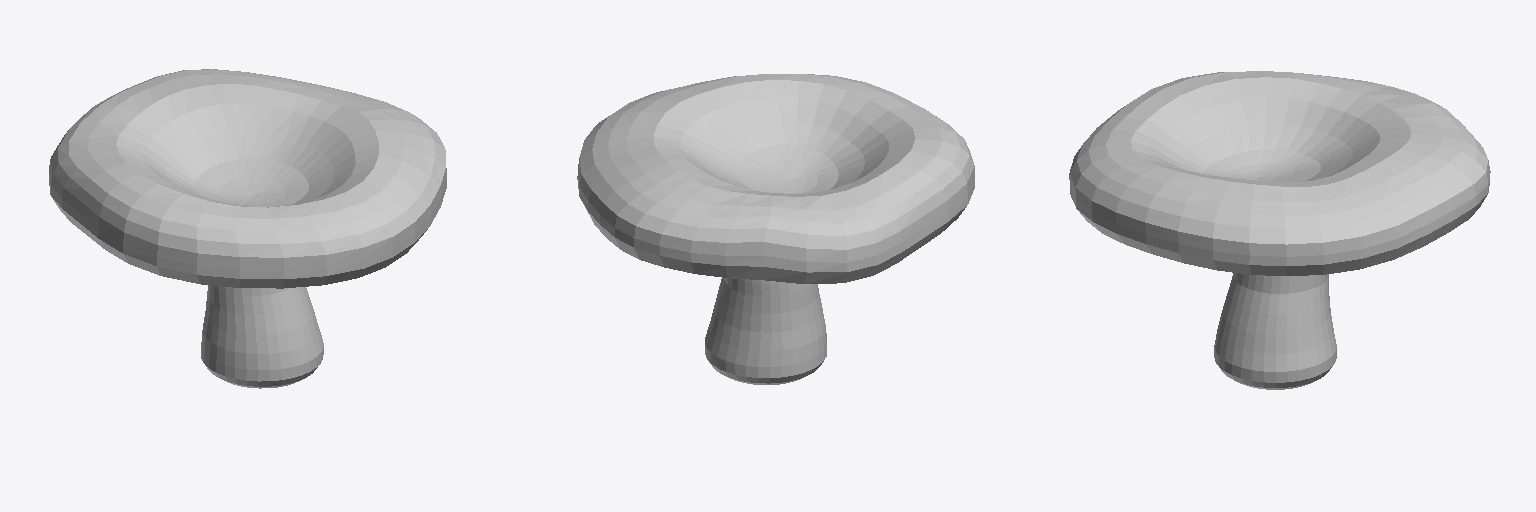
Rendered from chyornyj-gruzd.obj.
3 renders of one model, left to right at view 1: azimuth 30°, elevation 25°; view 2: azimuth 150°, elevation 25°; view 3: azimuth 270°, elevation 25°, orthographic.
Parts seen in each view (by area): view 1: Cylinder; view 2: Cylinder; view 3: Cylinder.
Boxes of the visible parts, box(x1,y1,x2,y2) form: Cylinder: box(49, 69, 446, 388); Cylinder: box(577, 74, 974, 384); Cylinder: box(1069, 71, 1490, 389).
Bounding box in the file's own units: 3.15 × 2.16 × 3.4.